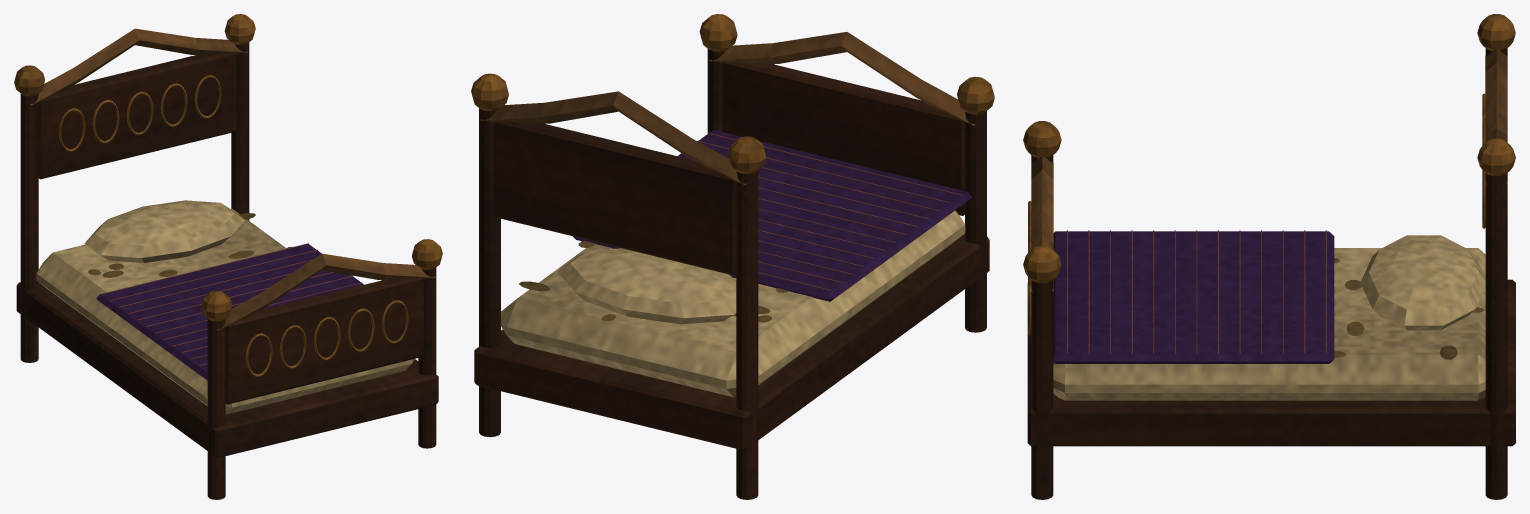
Rendered from victorian_bed.glb.
3 views of the same model, side by side, from view 1: azimuth 30°, elevation 25°; view 2: azimuth 150°, elevation 25°; view 3: azimuth 270°, elevation 25° (orthographic). The views are drawn at different scales.
Visible parts, largest first — view 1: victorian_bed; view 2: victorian_bed; view 3: victorian_bed.
Boxes of the visible parts, <box> form: victorian_bed: <box>14,14,442,499</box>; victorian_bed: <box>471,14,994,499</box>; victorian_bed: <box>1023,14,1515,499</box>.
Bounding box in the file's own units: 1.46 × 1.8 × 2.17.
Materials: 7 (7 with a texture image).
